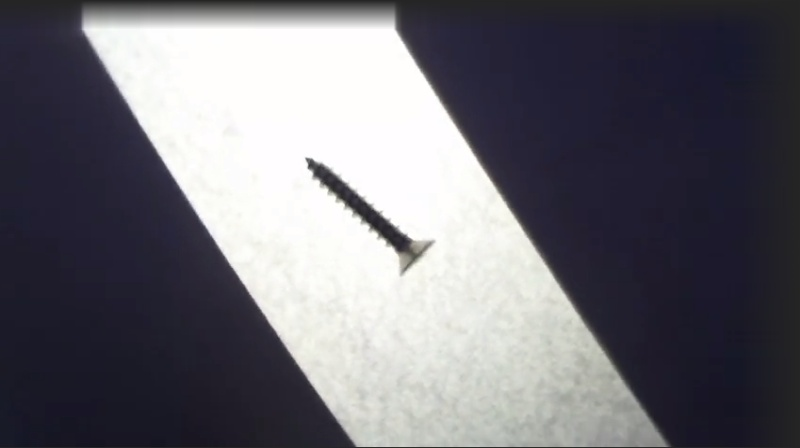S001: (304, 154, 439, 280)
